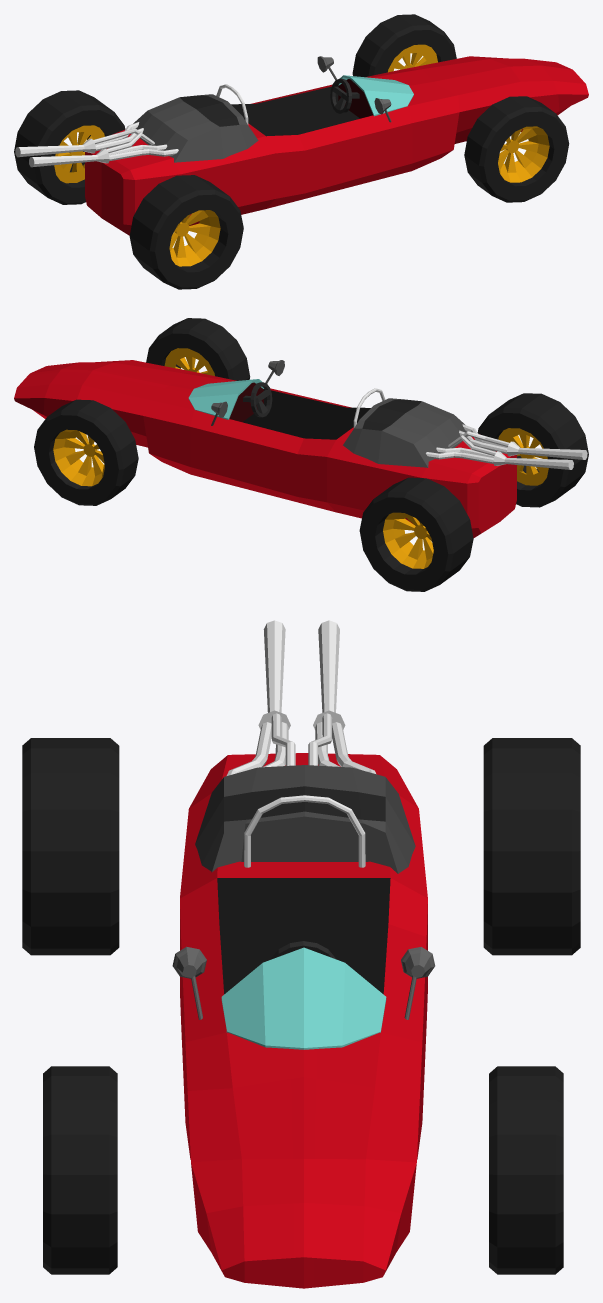
File: FormulaModel1.fbx
3 renders of one model, top to bottom at view 1: azimuth 30°, elevation 25°; view 2: azimuth 150°, elevation 25°; view 3: azimuth 270°, elevation 25°, orthographic. The views are drawn at different scales.
Visible parts, largest first — view 1: CarBody, RR, FR, RL, EngineCover, FL, Exausts, CarWindow, SteeringWheel, CockpitInstruments; view 2: CarBody, RL, FL, RR, EngineCover, FR, Exausts, CarWindow, SteeringWheel, CockpitInstruments; view 3: CarBody, RL, RR, EngineCover, FR, FL, CarWindow, Exausts, HeadProtection, RightMirror, LeftMirror.
Part boxes in pixels (box(x1,y1,x2,y2)): CarBody: box(85, 56, 588, 235); RR: box(129, 175, 243, 289); FR: box(464, 96, 569, 202); RL: box(14, 90, 125, 204); EngineCover: box(133, 94, 258, 162); FL: box(352, 14, 456, 77); Exausts: box(15, 122, 178, 167); CarWindow: box(338, 75, 413, 116); SteeringWheel: box(330, 78, 359, 113); CockpitInstruments: box(338, 79, 372, 118); CarBody: box(14, 360, 516, 538); RL: box(359, 477, 473, 591); FL: box(34, 399, 138, 505); RR: box(477, 393, 588, 507); EngineCover: box(343, 398, 466, 467); FR: box(146, 318, 250, 380); Exausts: box(426, 424, 587, 469); CarWindow: box(188, 379, 263, 419); SteeringWheel: box(243, 382, 272, 417); CockpitInstruments: box(229, 382, 263, 421); CarBody: box(180, 753, 427, 1288); RL: box(483, 738, 580, 955); RR: box(22, 738, 119, 955); EngineCover: box(195, 765, 415, 873); FR: box(43, 1066, 117, 1274); FL: box(489, 1066, 563, 1274); CarWindow: box(221, 947, 386, 1049); Exausts: box(226, 620, 375, 775); HeadProtection: box(244, 795, 365, 867); RightMirror: box(172, 946, 206, 1019); LeftMirror: box(401, 947, 435, 1019).
Bounding box in the file's own units: 668 × 146 × 295.
